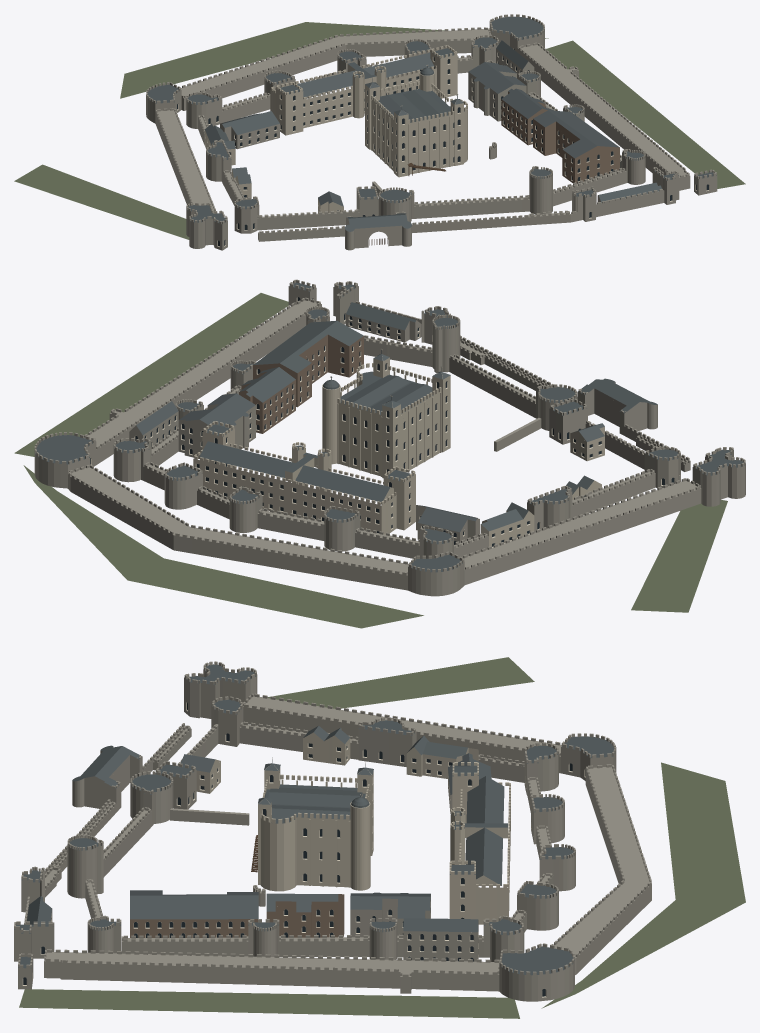
File: tower-of-london-near.glb
The picture shows the model from 3 angles, top to bottom: view 1: azimuth 30°, elevation 25°; view 2: azimuth 150°, elevation 25°; view 3: azimuth 270°, elevation 25°; orthographic projection. The views are drawn at different scales.
Visible parts, largest first — view 1: tower-of-london-0-stone, tower-of-london-0-grass, tower-of-london-0-lead, tower-of-london-0-pale, tower-of-london-0-brick, tower-of-london-0-glass, tower-of-london-0-trim; view 2: tower-of-london-0-stone, tower-of-london-0-grass, tower-of-london-0-lead, tower-of-london-0-pale, tower-of-london-0-brick, tower-of-london-0-glass, tower-of-london-0-trim; view 3: tower-of-london-0-stone, tower-of-london-0-grass, tower-of-london-0-lead, tower-of-london-0-pale, tower-of-london-0-brick, tower-of-london-0-glass, tower-of-london-0-trim.
Boxes of the visible parts, x1,y1,x2,y2 form: tower-of-london-0-stone: (146, 14, 717, 250); tower-of-london-0-grass: (14, 22, 745, 239); tower-of-london-0-lead: (146, 16, 716, 231); tower-of-london-0-pale: (205, 45, 467, 213); tower-of-london-0-brick: (501, 91, 619, 183); tower-of-london-0-glass: (177, 49, 708, 246); tower-of-london-0-trim: (177, 48, 709, 246); tower-of-london-0-stone: (34, 279, 745, 596); tower-of-london-0-grass: (14, 293, 727, 628); tower-of-london-0-lead: (35, 282, 744, 572); tower-of-london-0-pale: (193, 356, 604, 546); tower-of-london-0-brick: (239, 334, 363, 433); tower-of-london-0-glass: (90, 297, 679, 546); tower-of-london-0-trim: (90, 297, 680, 547); tower-of-london-0-stone: (14, 661, 651, 1001); tower-of-london-0-grass: (19, 657, 745, 1018); tower-of-london-0-lead: (14, 664, 615, 975); tower-of-london-0-pale: (196, 729, 510, 924); tower-of-london-0-brick: (130, 894, 344, 937); tower-of-london-0-glass: (23, 702, 585, 996); tower-of-london-0-trim: (22, 702, 585, 997).
Bounding box in the file's own units: 292 × 34.99 × 250.
